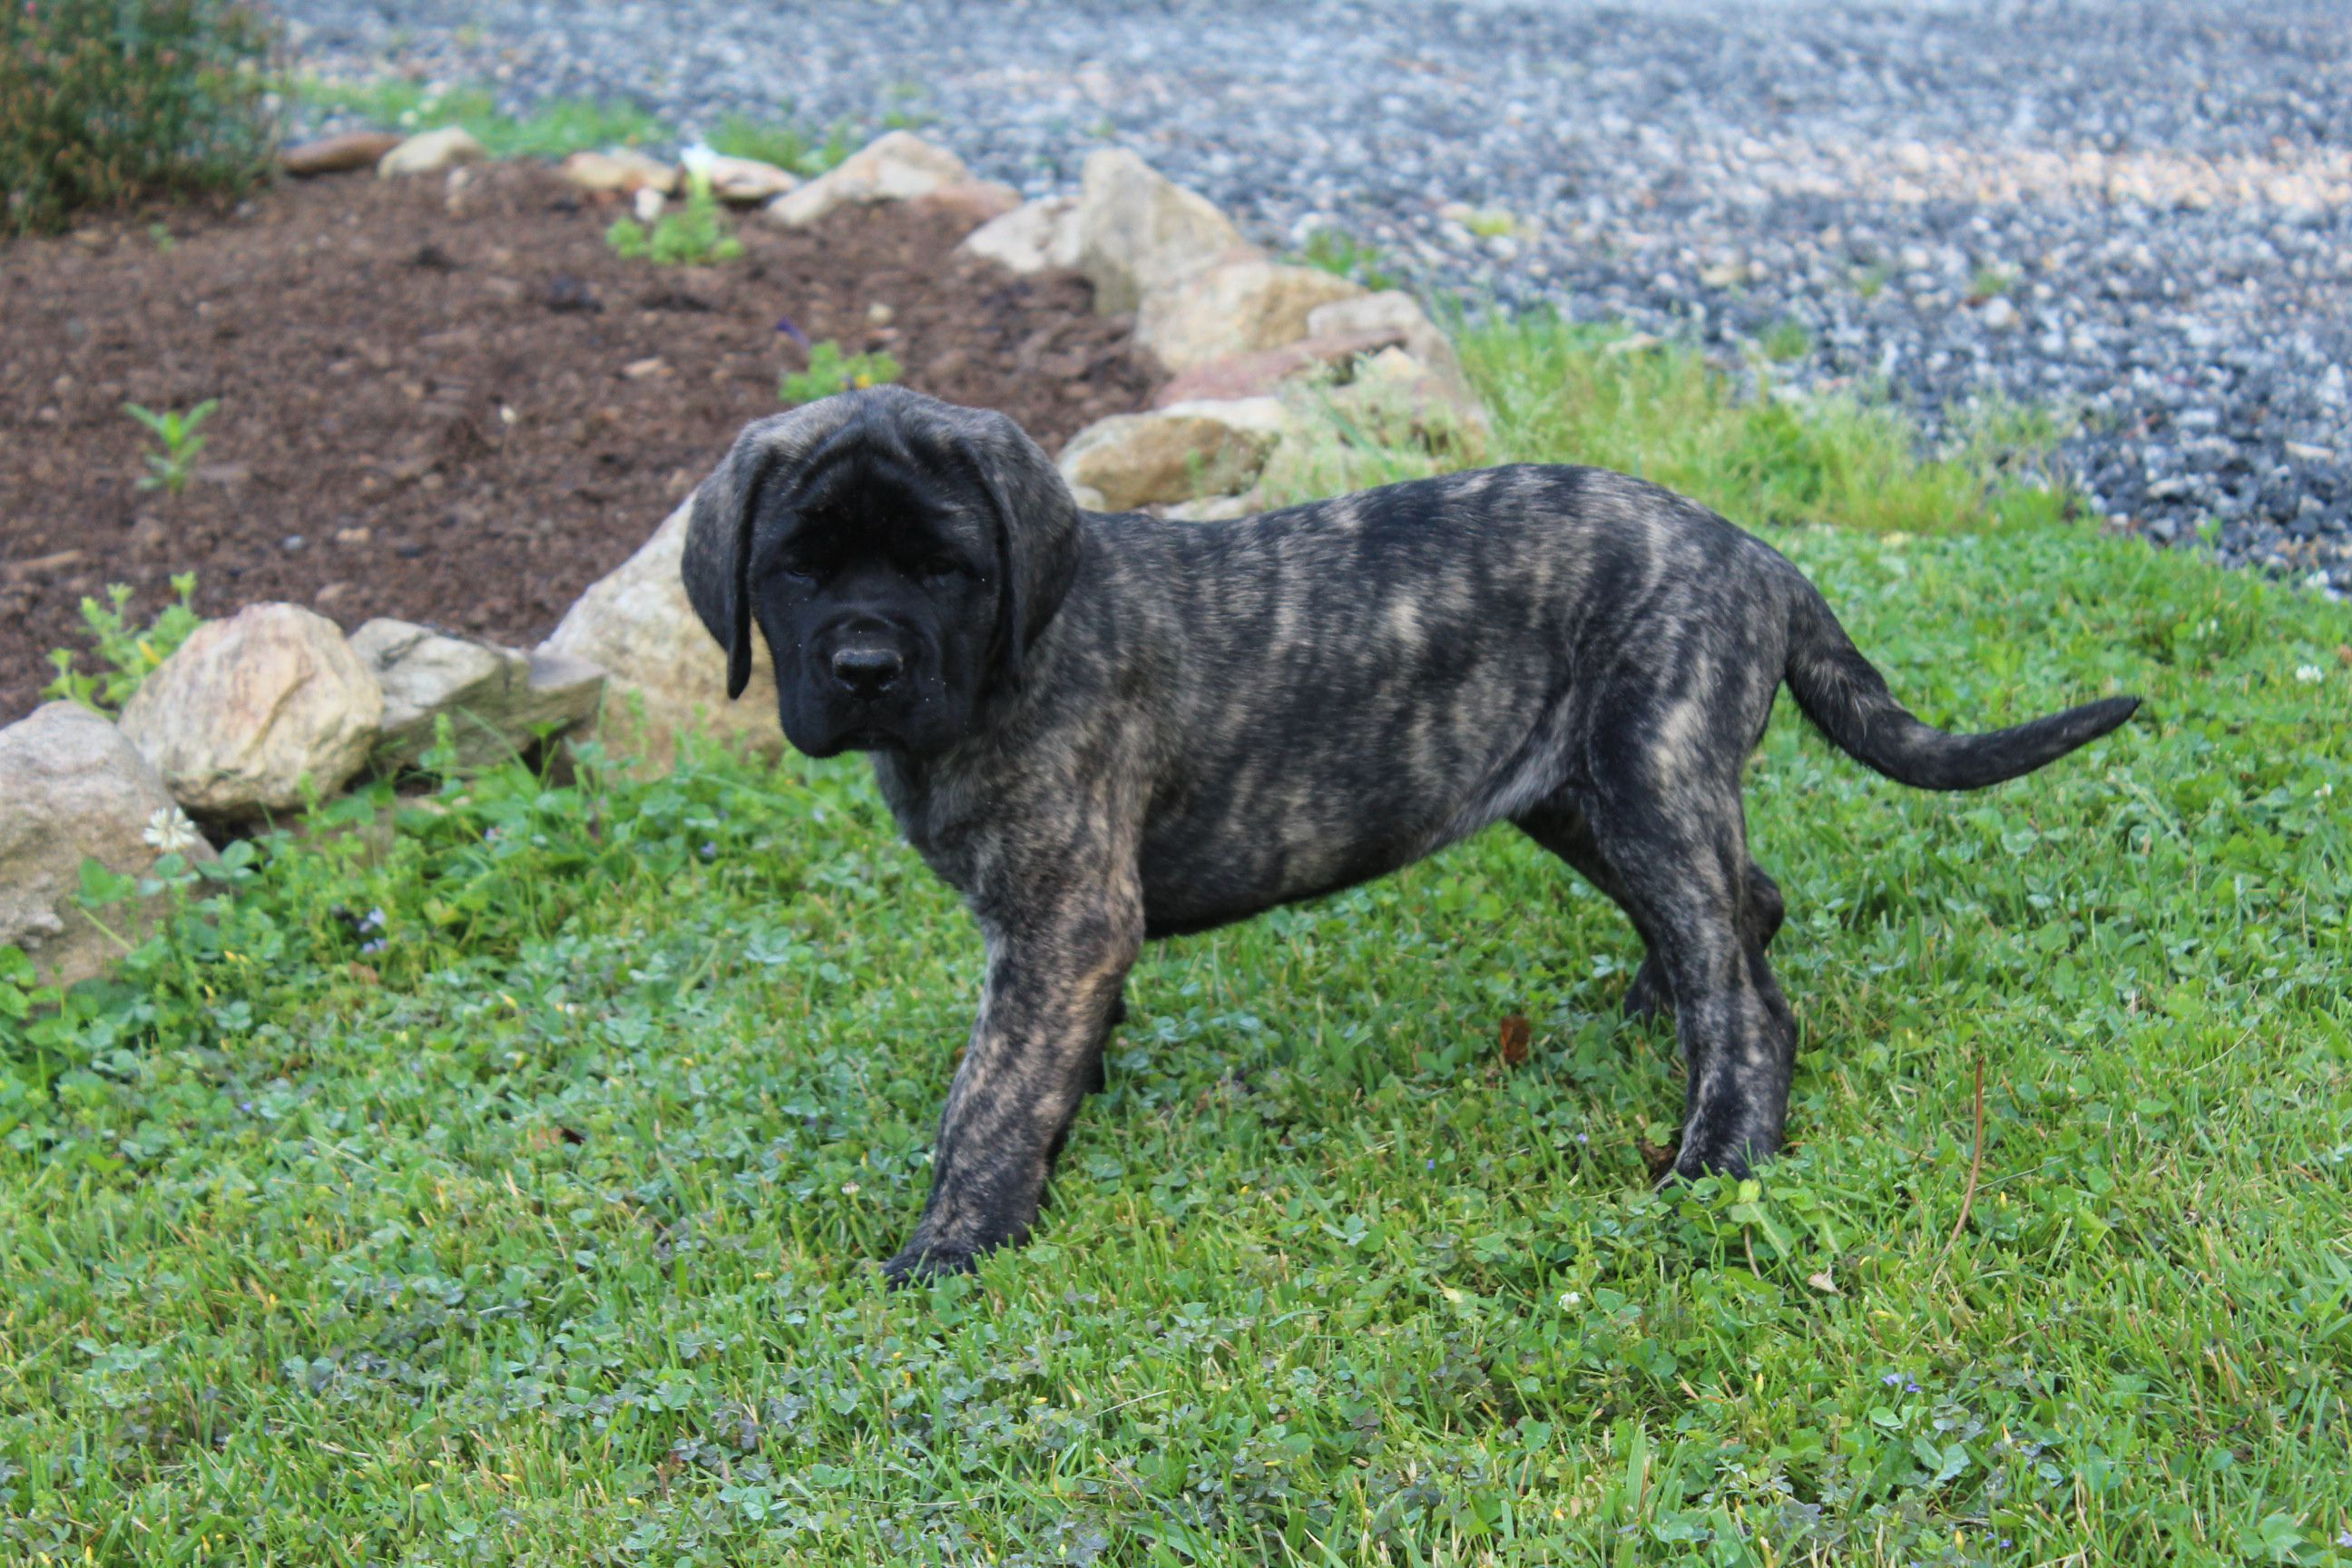mastiff: (679, 383, 2145, 1283)
